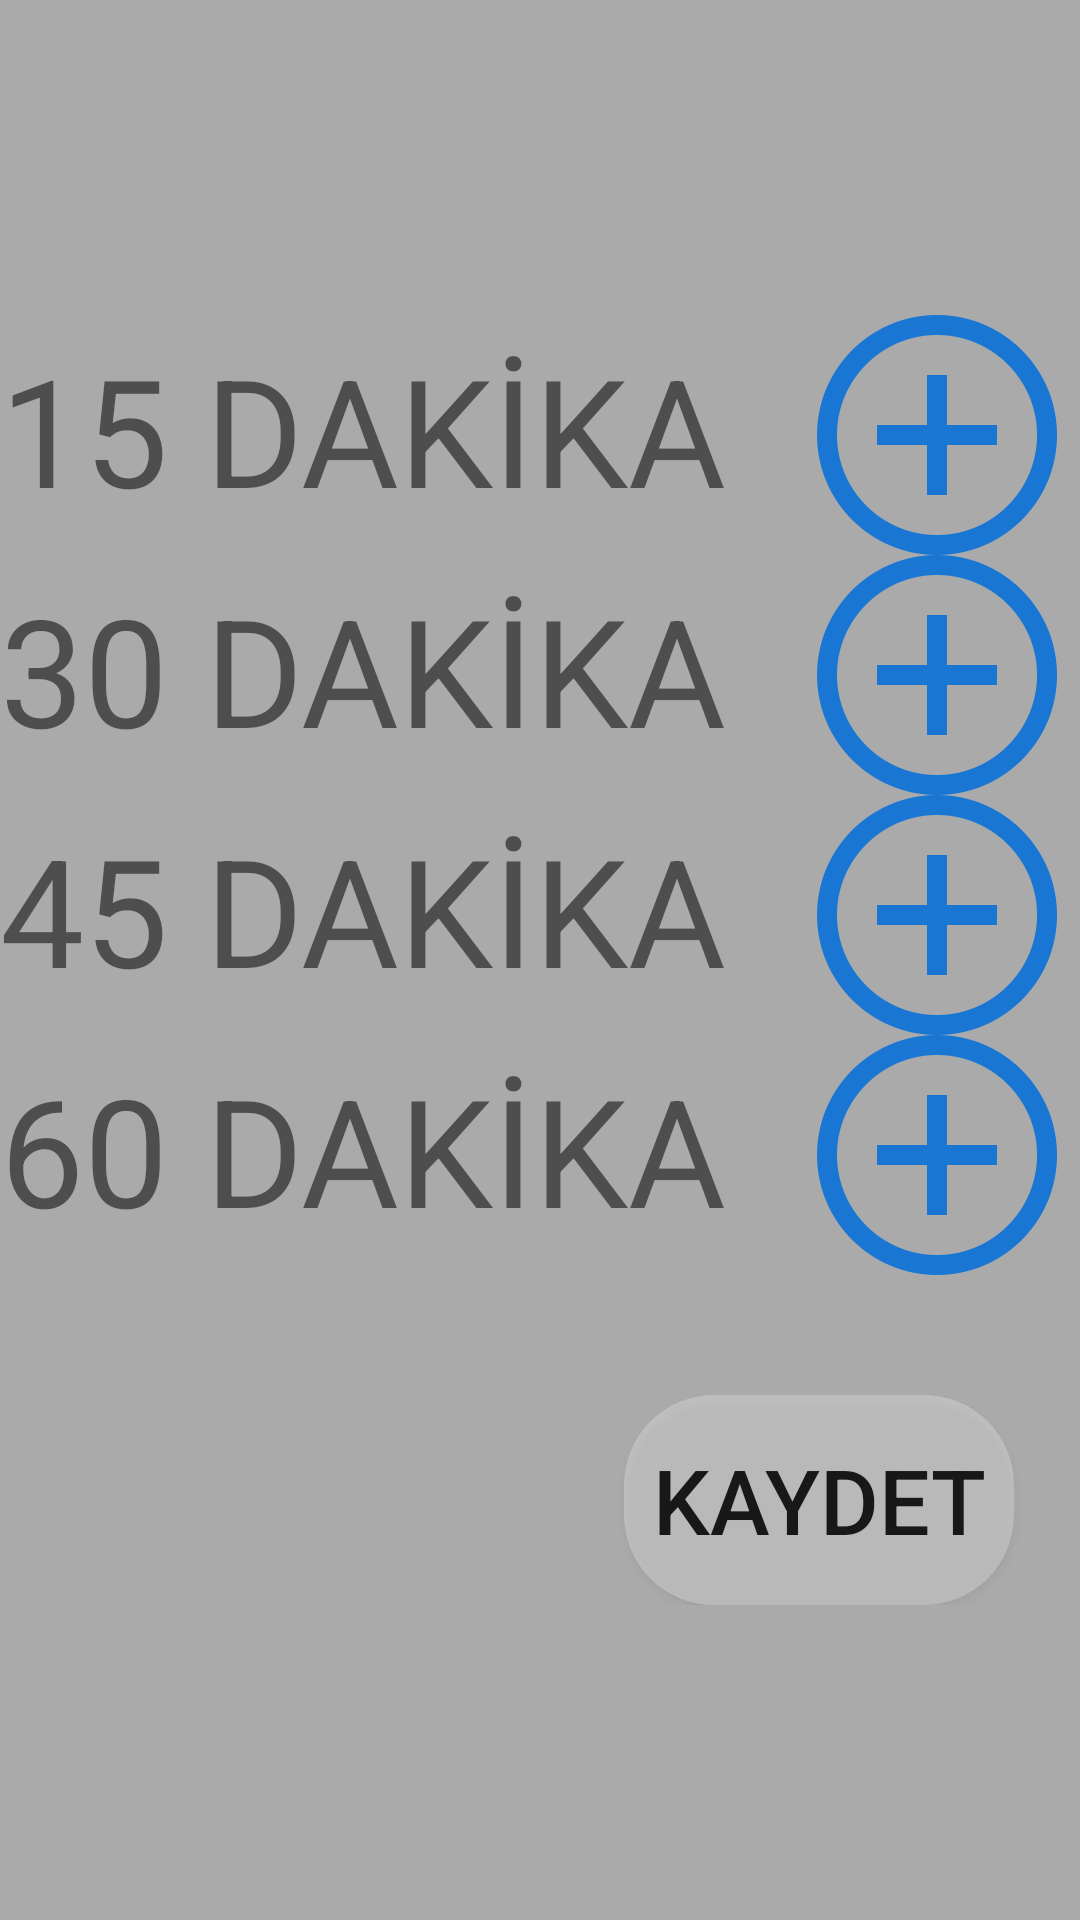

Icon click points for this 1080x1920 phone screenshot, format [x,y]:
arttir: [937,435], [937,675], [937,915], [937,1155]
